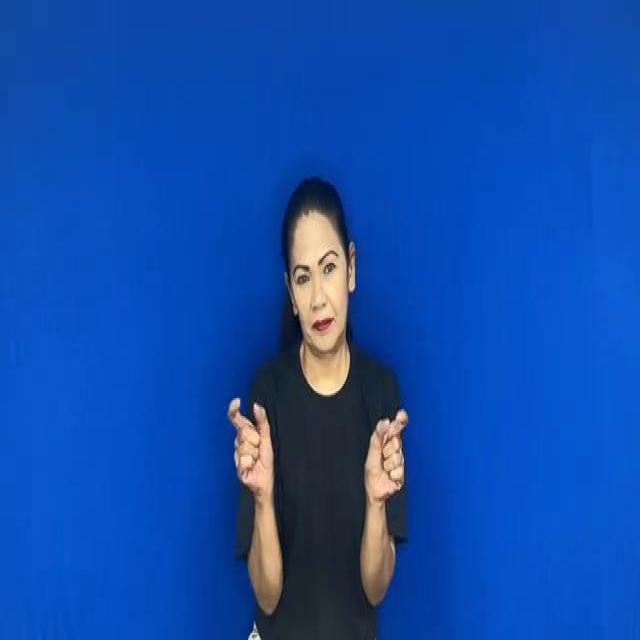crab: (218, 385, 284, 507), (362, 395, 413, 512)
